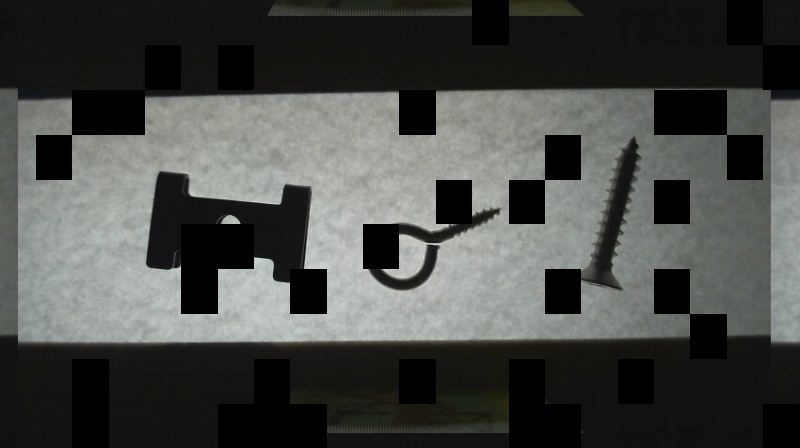O001: (361, 203, 503, 292)
O002: (141, 169, 314, 287)
S001: (565, 133, 643, 292)
